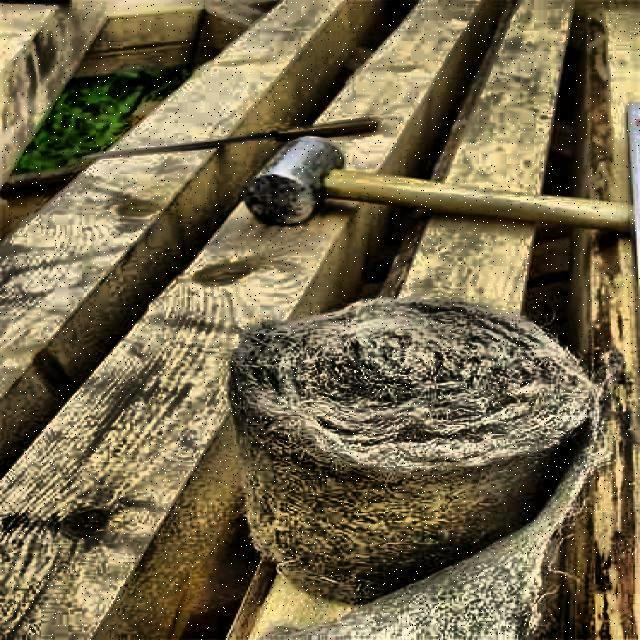hammer: (246, 132, 636, 246)
